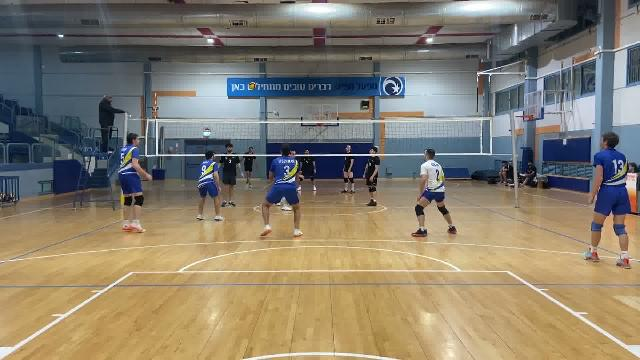ball: (245, 80, 258, 91)
